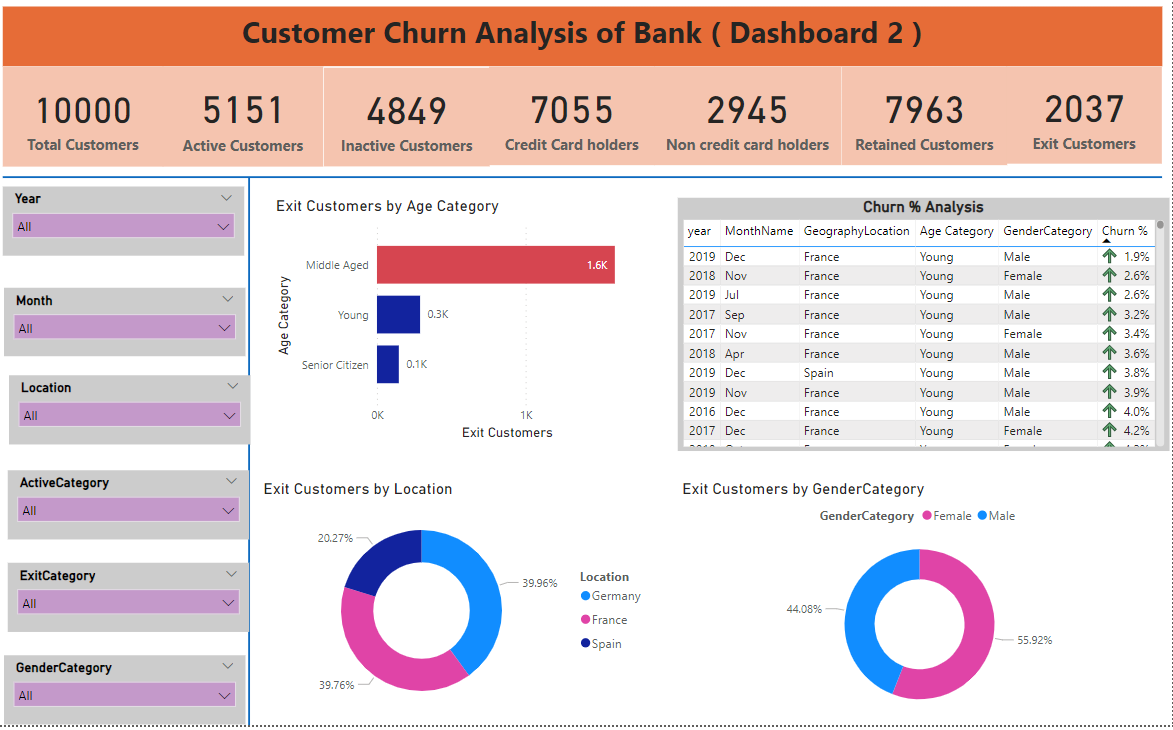

Layout of this report page (visuals, bound fields, positions):
{"tool":"powerbi","page":{"name":"Dashboard 2","canvas":[1280,800],"ordinal":1},"visuals":[{"type":"card","fields":{"Values":["Calculations.Total Customers"]},"box":[9.6,83.7,174.3,108.4],"z":0},{"type":"card","fields":{"Values":["Calculations.Active Customers"]},"box":[183.9,83.7,174.3,108.4],"z":1000},{"type":"card","fields":{"Values":["Calculations.Inactive Customers"]},"box":[358.1,85.1,179.8,107],"z":2000},{"type":"textbox","box":[9.6,19.2,1259.7,64.5],"z":3000},{"type":"card","fields":{"Values":["Calculations.Credit Card holders"]},"box":[537.9,83.7,179.8,107],"z":4000},{"type":"card","fields":{"Values":["Calculations.Non credit card holders"]},"box":[717.7,83.7,203.1,107],"z":5000},{"type":"card","fields":{"Values":["Calculations.Retained Customers"]},"box":[920.8,83.7,179.8,107],"z":6000},{"type":"card","fields":{"Values":["Calculations.Exit Customers"]},"box":[1100.5,83.7,168.8,105.7],"z":7000},{"type":"shape","box":[9.6,137.2,1259.7,134.5],"z":8000},{"type":"shape","box":[0,204.5,554.4,595.5],"z":9000},{"type":"slicer","fields":{"Values":["DateMasters.year"]},"box":[9.6,214.1,262.1,75.5],"z":10000},{"type":"slicer","fields":{"Values":["DateMasters.MonthName"]},"box":[11,325.2,262.1,74.1],"z":11000},{"type":"slicer","fields":{"Values":["Geography.GeographyLocation"]},"box":[16.5,419.9,262.1,75.5],"z":12000},{"type":"slicer","fields":{"Values":["ActiveCustomer.ActiveCategory"]},"box":[15.1,522.8,262.1,75.5],"z":13000},{"type":"slicer","fields":{"Values":["ExitCustomer.ExitCategory"]},"box":[15.1,623,262.1,75.5],"z":14000},{"type":"slicer","fields":{"Values":["Gender.GenderCategory"]},"box":[11,724.5,262.1,75.5],"z":15000},{"type":"donutChart","title":"Exit Customers by Location","fields":{"Y":["Calculations.Exit Customers"],"Category":["Geography.GeographyLocation"]},"box":[287.7,532.8,429.5,267.1],"z":16000},{"type":"donutChart","fields":{"Y":["Calculations.Exit Customers"],"Category":["Gender.GenderCategory"]},"box":[743.4,532.8,525.9,267.1],"z":17000},{"type":"clusteredBarChart","fields":{"Category":["Bank_Churn.Age Category"],"Y":["Calculations.Exit Customers"]},"box":[301.5,225.8,415.7,269.8],"z":18000},{"type":"tableEx","title":"Churn % Analysis","fields":{"Values":["DateMasters.year","DateMasters.MonthName","Geography.GeographyLocation","Bank_Churn.Age Category","Gender.GenderCategory","Calculations.Churn Percentage"]},"box":[743.4,227.1,534.1,275.3],"z":19000}]}

Visuals, with their boxes in screenshot pixels (x1, y1, x2, y2), scaled from the page's 1280x800 canvas onto the 1173x730 screenshot:
card - Calculations.Total Customers: locate(9, 76, 169, 175)
card - Calculations.Active Customers: locate(169, 76, 328, 175)
card - Calculations.Inactive Customers: locate(328, 78, 493, 175)
textbox: locate(9, 18, 1163, 76)
card - Calculations.Credit Card holders: locate(493, 76, 658, 174)
card - Calculations.Non credit card holders: locate(658, 76, 844, 174)
card - Calculations.Retained Customers: locate(844, 76, 1009, 174)
card - Calculations.Exit Customers: locate(1009, 76, 1163, 173)
shape: locate(9, 125, 1163, 248)
shape: locate(0, 187, 508, 729)
slicer - DateMasters.year: locate(9, 195, 249, 264)
slicer - DateMasters.MonthName: locate(10, 297, 250, 364)
slicer - Geography.GeographyLocation: locate(15, 383, 255, 452)
slicer - ActiveCustomer.ActiveCategory: locate(14, 477, 254, 546)
slicer - ExitCustomer.ExitCategory: locate(14, 568, 254, 637)
slicer - Gender.GenderCategory: locate(10, 661, 250, 729)
"Exit Customers by Location" donutChart: locate(264, 486, 657, 729)
donutChart - Calculations.Exit Customers x Gender.GenderCategory: locate(681, 486, 1163, 729)
clusteredBarChart - Bank_Churn.Age Category x Calculations.Exit Customers: locate(276, 206, 657, 452)
"Churn % Analysis" tableEx: locate(681, 207, 1171, 458)
